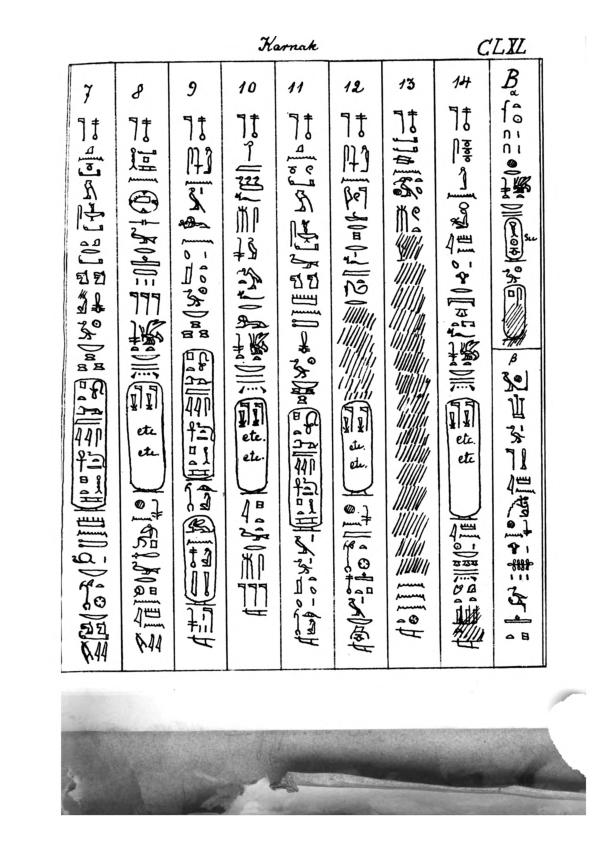circle: (175, 344, 221, 484), (69, 375, 111, 513), (283, 404, 326, 534), (124, 379, 169, 497), (442, 396, 483, 522), (230, 395, 271, 497), (338, 399, 378, 498), (181, 513, 219, 608), (500, 282, 529, 345), (501, 215, 527, 266)
